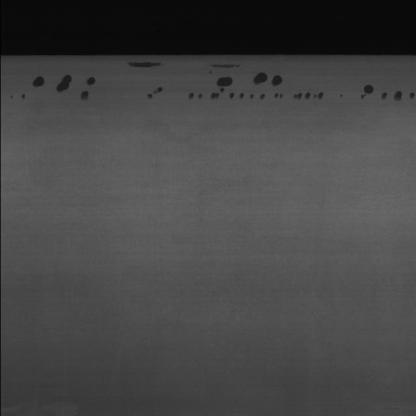oil_spot: (128, 86, 409, 101), (25, 72, 110, 106), (201, 67, 290, 91), (124, 59, 172, 73)
